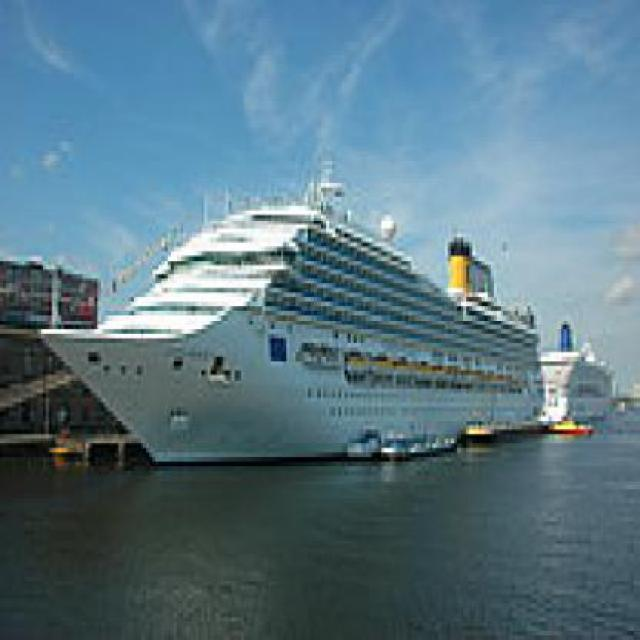cruise: (31, 161, 553, 476), (534, 316, 623, 444)
